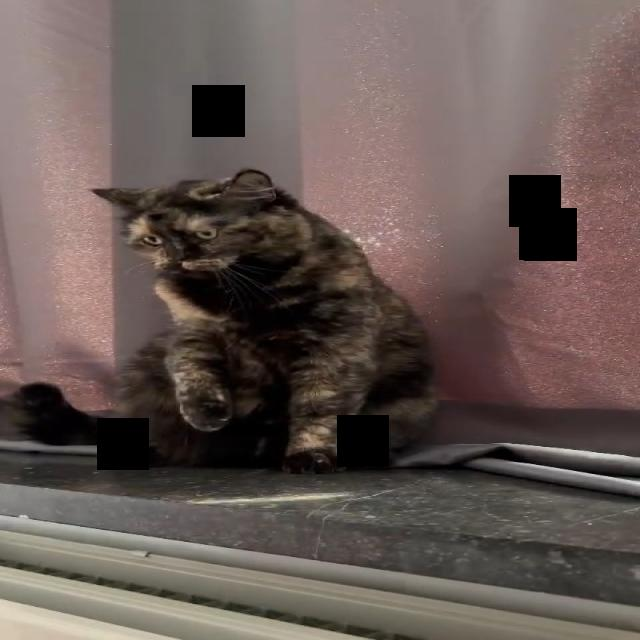authorized: (88, 167, 440, 475)
